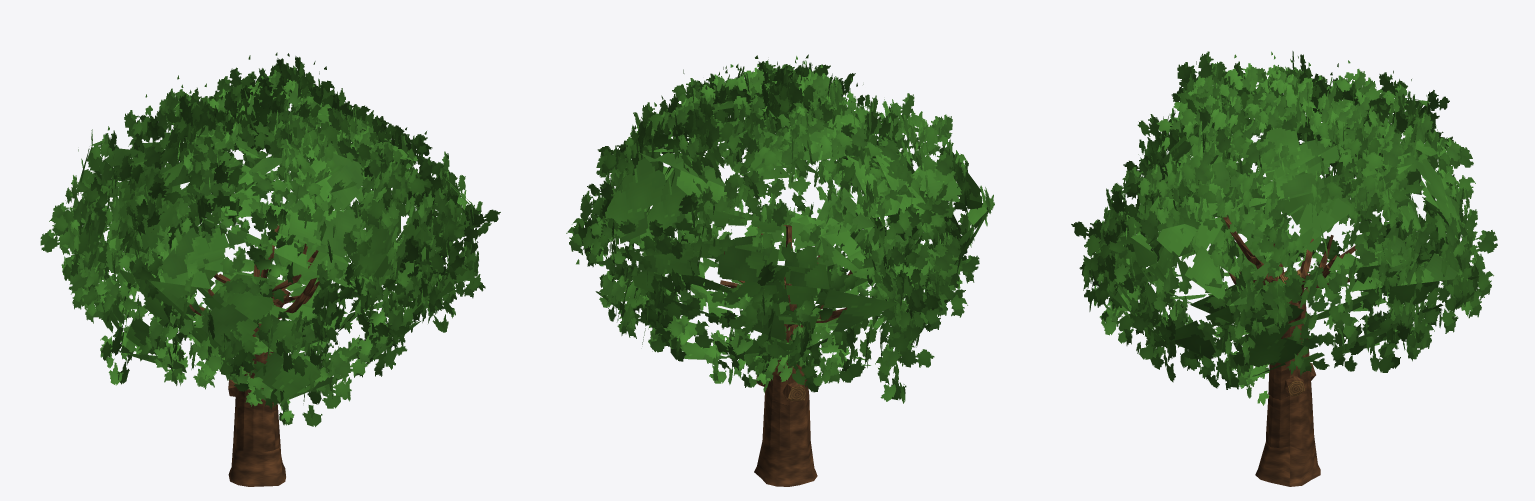
Rendered from cow_tree_0.glb.
3 renders of one model, left to right at view 1: azimuth 30°, elevation 25°; view 2: azimuth 150°, elevation 25°; view 3: azimuth 270°, elevation 25°, orthographic. The views are drawn at different scales.
Parts seen in each view (by area): view 1: __exp_cow_tree_0_Canopy_Stump, __exp_cow_tree_0_LeafBlob_Skirt_Canopy_Stump.003, __exp_cow_tree_0_LeafBlob_Skirt_Canopy_Stump.001_inner.001, __exp_cow_tree_0_Trunk_Stump, __exp_cow_tree_0_Stump; view 2: __exp_cow_tree_0_Canopy_Stump, __exp_cow_tree_0_LeafBlob_Skirt_Canopy_Stump.003, __exp_cow_tree_0_LeafBlob_Skirt_Canopy_Stump.001_inner.001, __exp_cow_tree_0_Trunk_Stump, __exp_cow_tree_0_Stump; view 3: __exp_cow_tree_0_Canopy_Stump, __exp_cow_tree_0_LeafBlob_Skirt_Canopy_Stump.003, __exp_cow_tree_0_LeafBlob_Skirt_Canopy_Stump.001_inner.001, __exp_cow_tree_0_Trunk_Stump, __exp_cow_tree_0_Stump.
Boxes of the visible parts, <box> form: __exp_cow_tree_0_Canopy_Stump: <box>40,52,500,426</box>; __exp_cow_tree_0_LeafBlob_Skirt_Canopy_Stump.003: <box>68,92,478,401</box>; __exp_cow_tree_0_LeafBlob_Skirt_Canopy_Stump.001_inner.001: <box>117,120,423,354</box>; __exp_cow_tree_0_Trunk_Stump: <box>189,225,325,452</box>; __exp_cow_tree_0_Stump: <box>228,443,285,486</box>; __exp_cow_tree_0_Canopy_Stump: <box>566,54,994,403</box>; __exp_cow_tree_0_LeafBlob_Skirt_Canopy_Stump.003: <box>576,83,988,366</box>; __exp_cow_tree_0_LeafBlob_Skirt_Canopy_Stump.001_inner.001: <box>628,114,935,327</box>; __exp_cow_tree_0_Trunk_Stump: <box>720,225,852,450</box>; __exp_cow_tree_0_Stump: <box>754,441,817,486</box>; __exp_cow_tree_0_Canopy_Stump: <box>1071,51,1497,405</box>; __exp_cow_tree_0_LeafBlob_Skirt_Canopy_Stump.003: <box>1089,79,1479,376</box>; __exp_cow_tree_0_LeafBlob_Skirt_Canopy_Stump.001_inner.001: <box>1141,115,1430,328</box>; __exp_cow_tree_0_Trunk_Stump: <box>1223,215,1356,448</box>; __exp_cow_tree_0_Stump: <box>1255,438,1320,486</box>.
Bounding box in the file's own units: 5.92 × 5.84 × 5.7.
5 materials, 5 textured.
